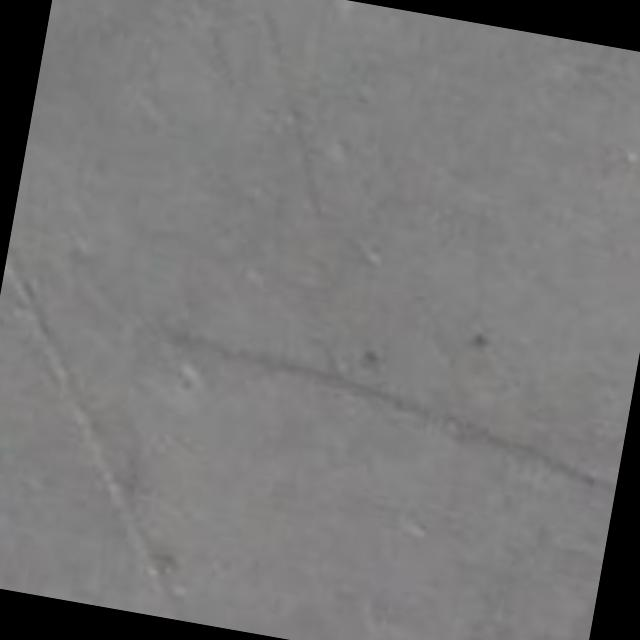crack: (196, 339, 615, 495)
